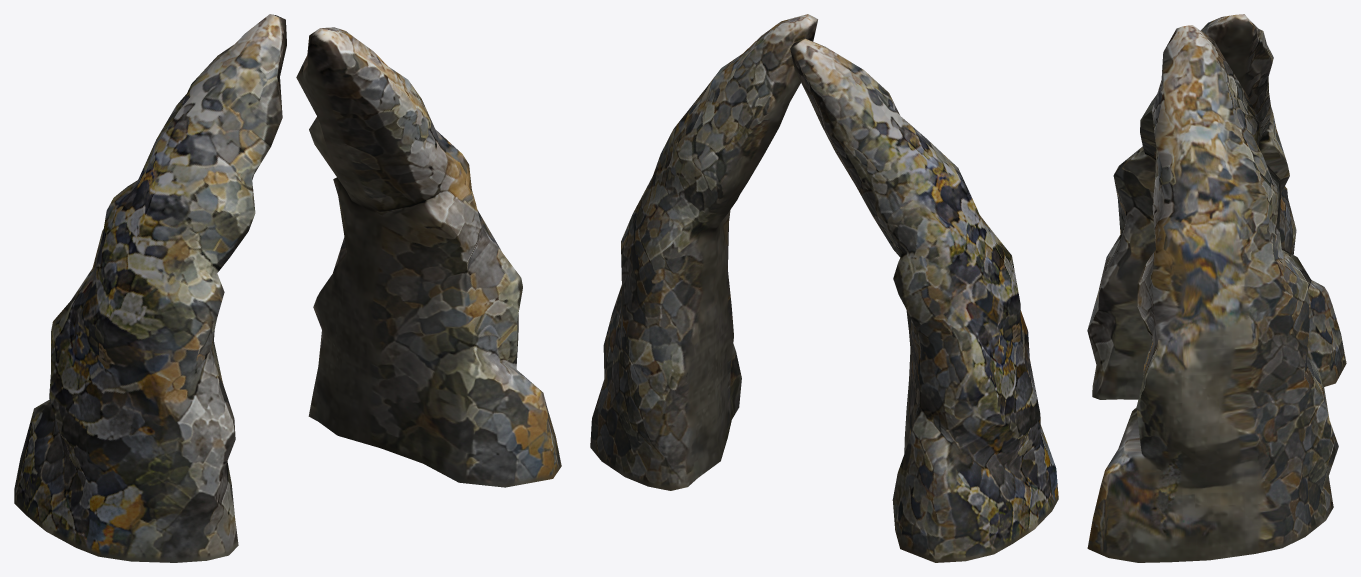
Rendered from act1_kit_v1_leaning_stones.glb.
3 renders of one model, left to right at view 1: azimuth 30°, elevation 25°; view 2: azimuth 150°, elevation 25°; view 3: azimuth 270°, elevation 25°, orthographic. The views are drawn at different scales.
Parts seen in each view (by area): view 1: act1_kit_v1_leaning_stones; view 2: act1_kit_v1_leaning_stones; view 3: act1_kit_v1_leaning_stones.
Boxes of the visible parts, x1,y1,x2,y2 form: act1_kit_v1_leaning_stones: [14, 14, 561, 562]; act1_kit_v1_leaning_stones: [590, 14, 1058, 562]; act1_kit_v1_leaning_stones: [1087, 14, 1346, 562].
Size of the model in its own units: 1 by 0.9359 by 0.5003.
1 material, 1 textured.
